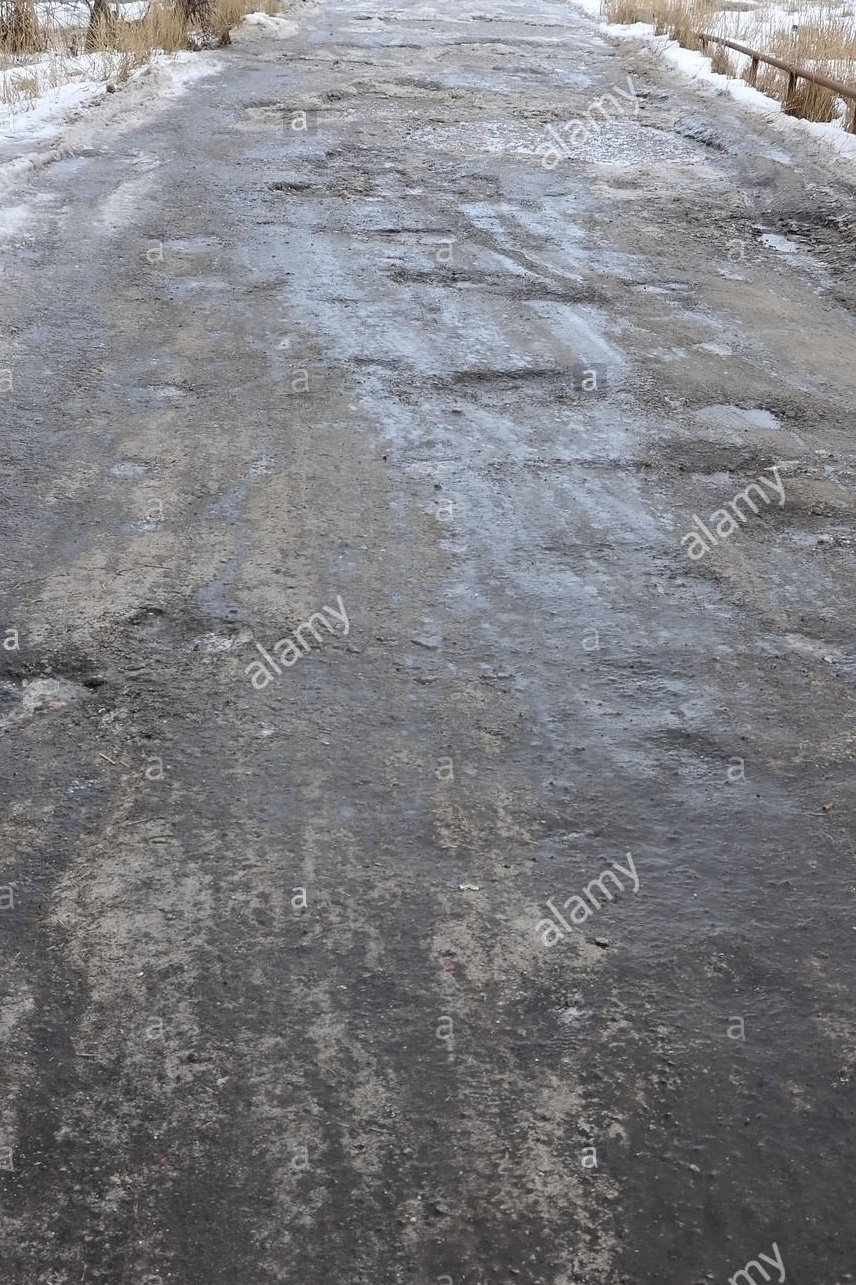pothole: (474, 24, 733, 220), (250, 210, 493, 290), (430, 341, 617, 417)
